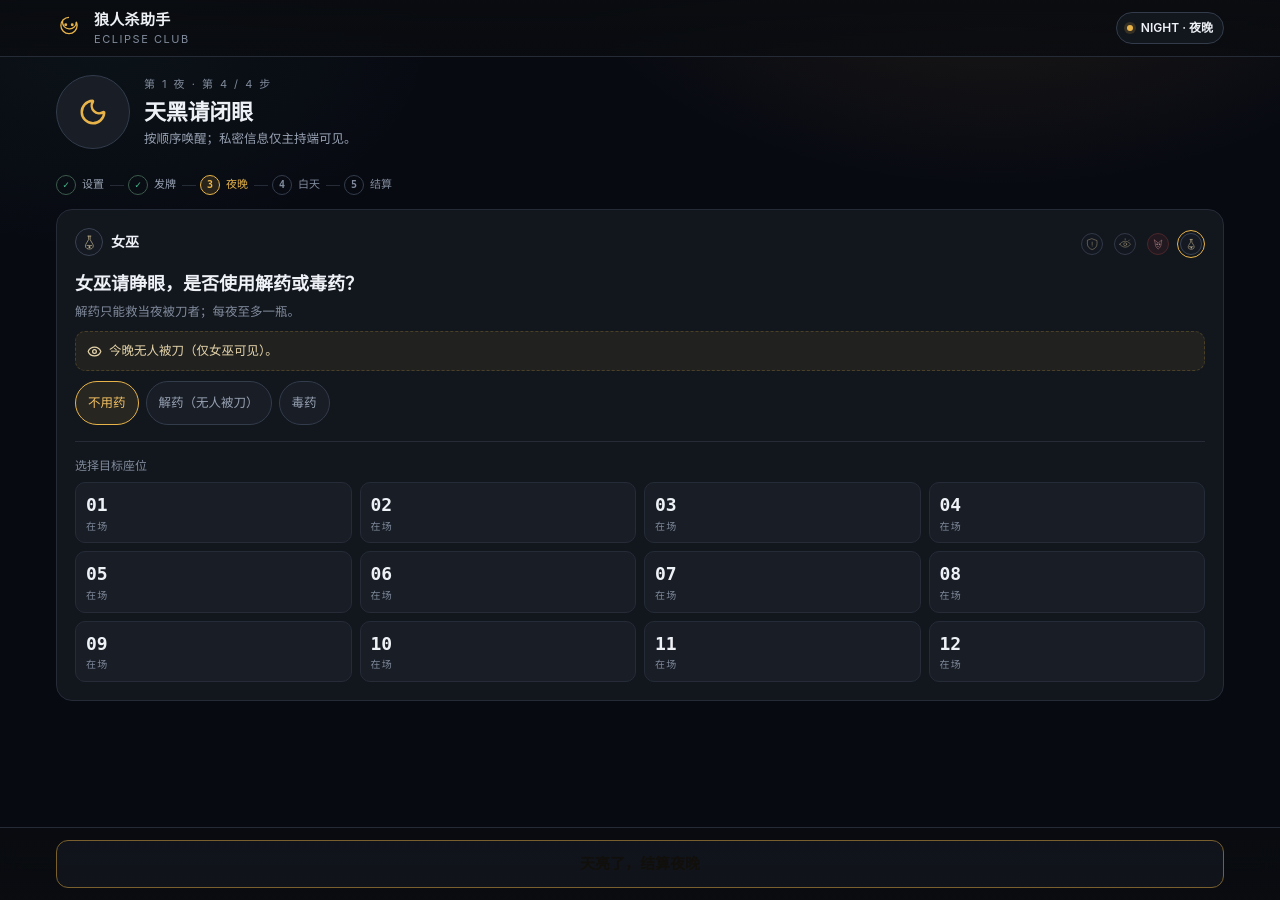
Test: 夜间流程 › 女巫：空刀不可解药，毒药目标后进入死讯
The width and height of the screenshot is (1280, 900).
Expected: the text "今晚无人被刀（仅女巫可见）。" is shown, [75,331,1205,371]
Expected: the button "解药（无人被刀）" is disabled, [146,381,272,425]
What coordinates should you click on to do the following:
click the button "毒药"
I would click on:
 (304, 403)
Its box is [278,381,330,425].
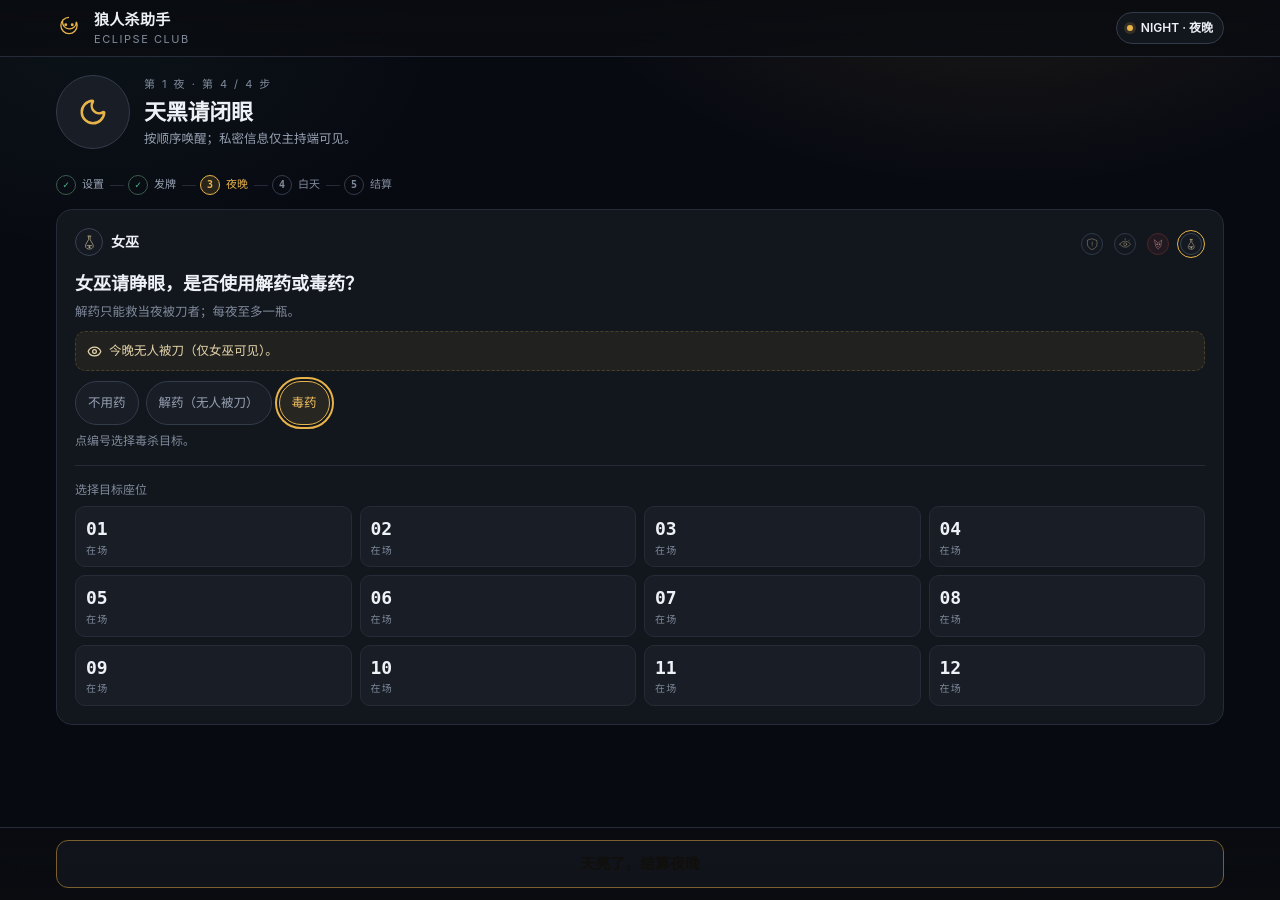
What coordinates should you click on to do the following:
click the button "07 在场"
I would click on:
 (666, 598)
Its box is [644,575,920,637].
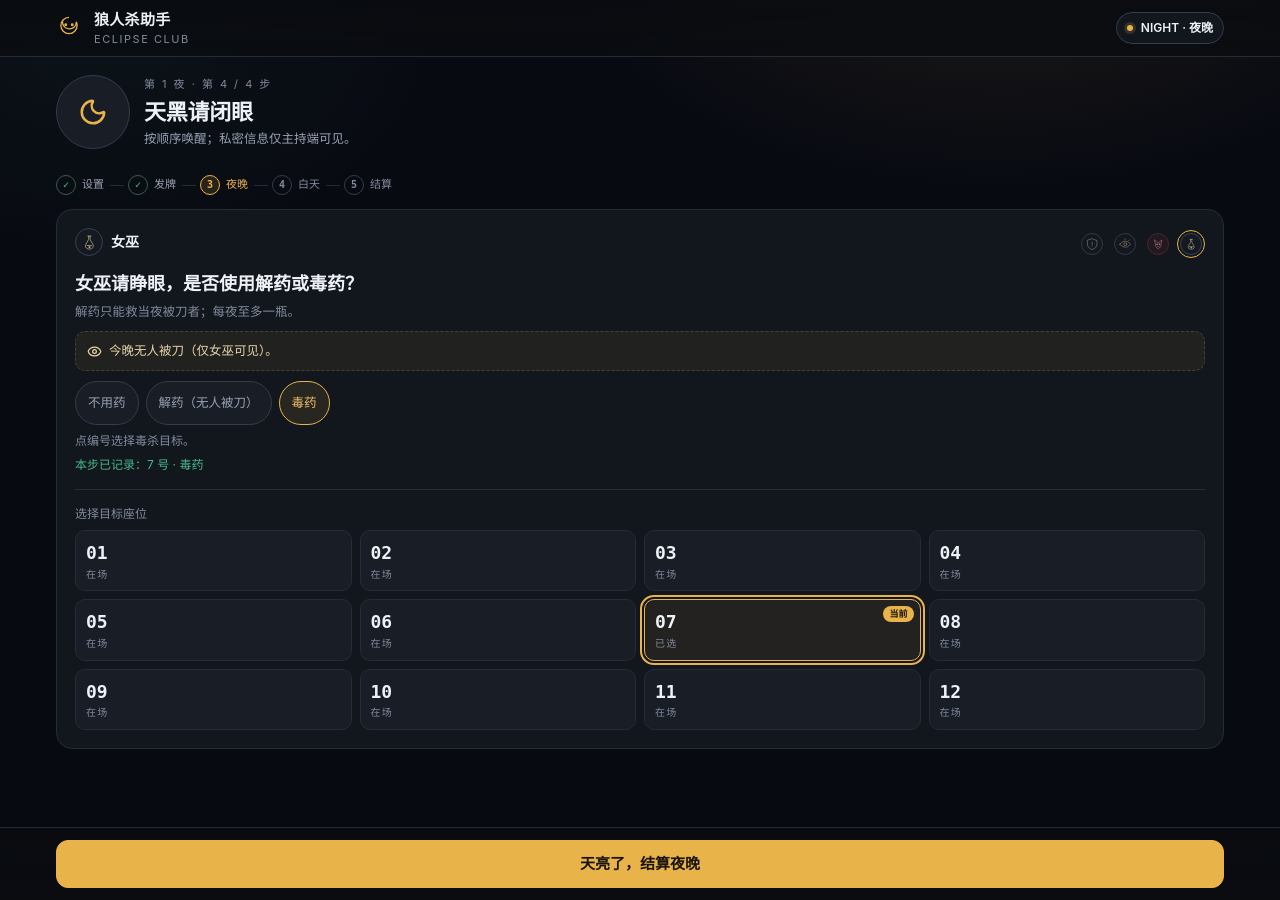
Expected: the text "本步已记录：7 号 · 毒药" is shown, [75,457,203,472]
What coordinates should you click on to do the following:
click the button "天亮了，结算夜晚"
I would click on:
 (640, 864)
Its box is [56,840,1224,888].
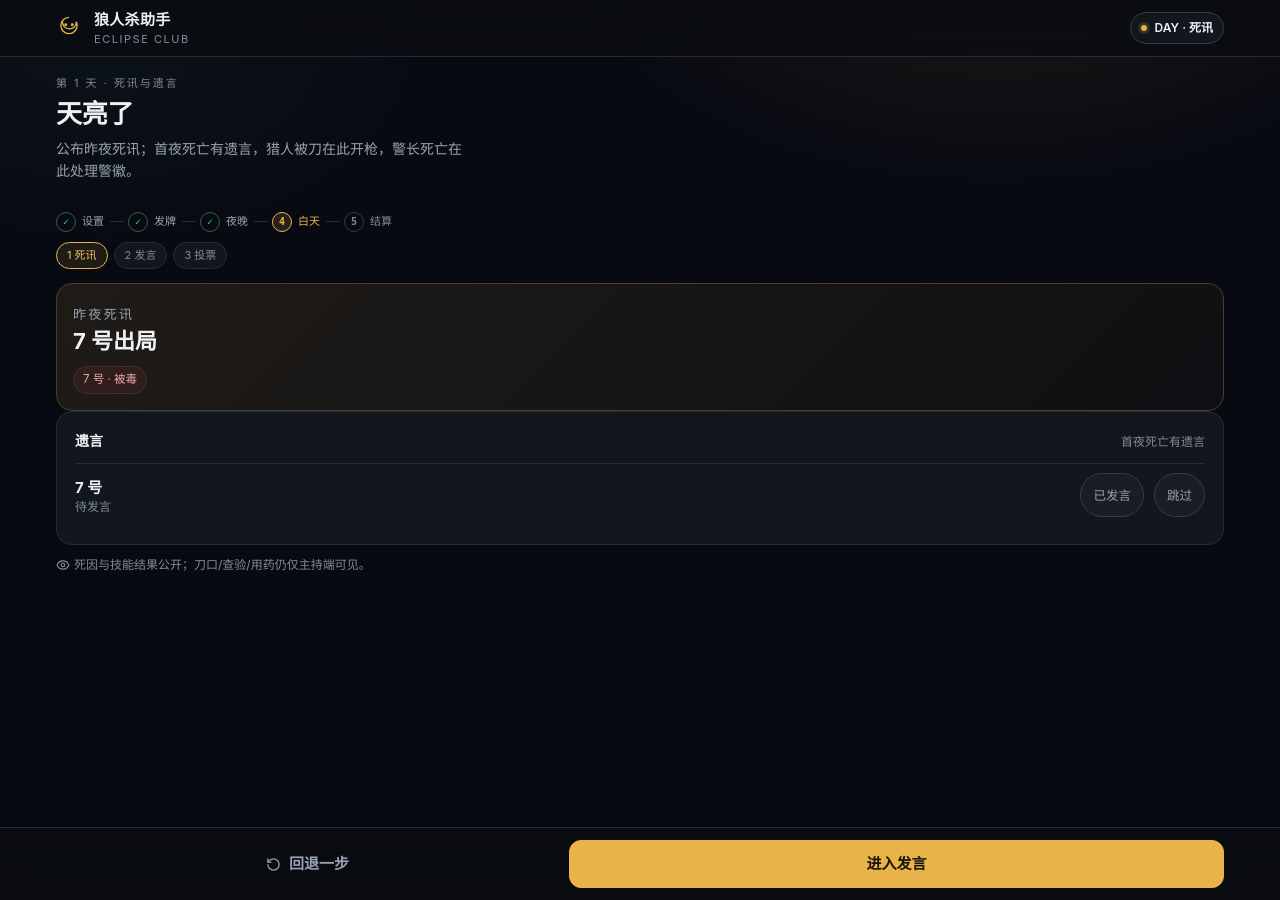
Expected: the heading "天亮了" is shown, [56,98,133,129]
Expected: the heading "7 号出局" is shown, [73,328,157,354]
Expected: the text "7 号 · 被毒" is shown, [73,366,147,394]
